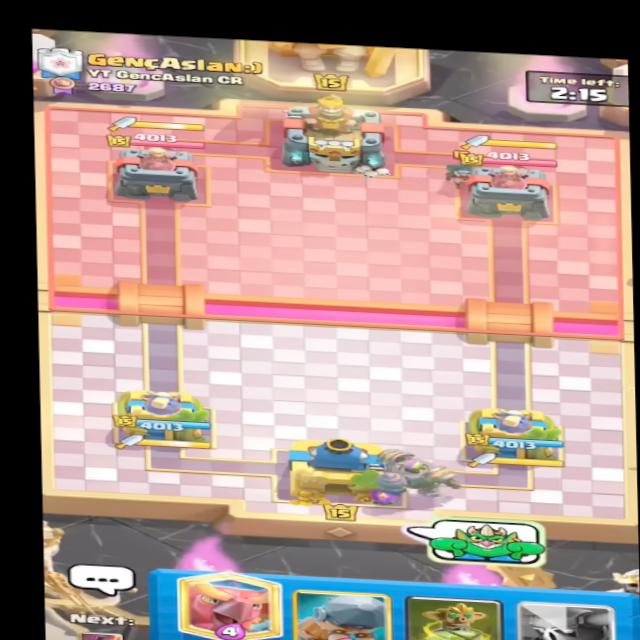bandit: (414, 143, 490, 189)
